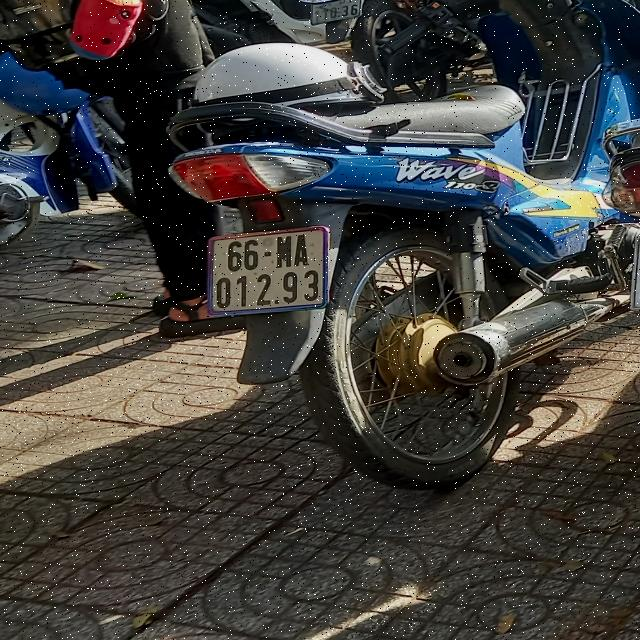0: (214, 275, 233, 310)
1: (234, 273, 249, 308)
2: (256, 274, 273, 307)
3: (303, 268, 319, 304)
6: (243, 238, 259, 270), (228, 240, 243, 272)
9: (282, 272, 301, 304)
A: (294, 230, 310, 266)
M: (274, 234, 294, 271)
